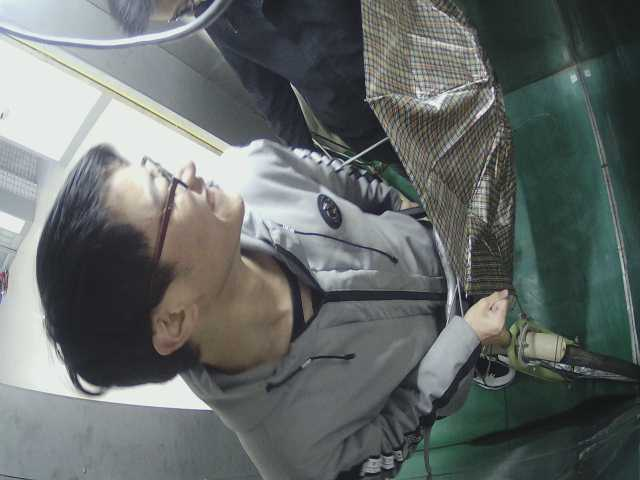bicycle: (457, 263, 634, 401)
person: (55, 142, 484, 472), (123, 1, 489, 187)
